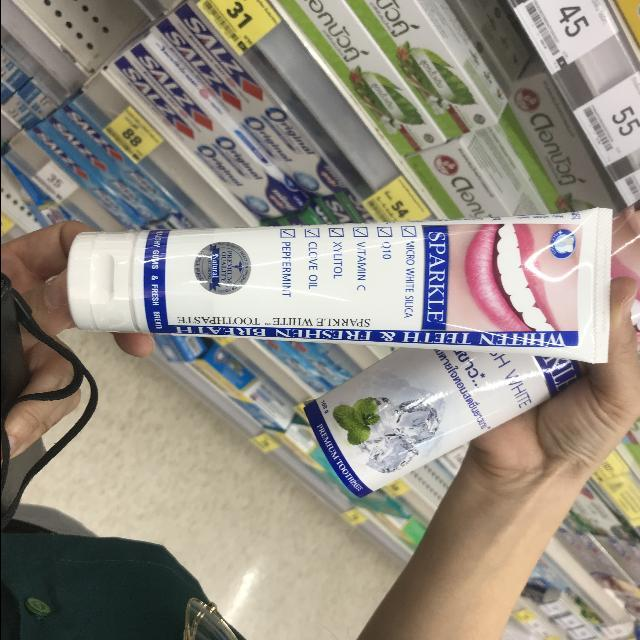Squeeze Tube: (48, 202, 640, 396)
